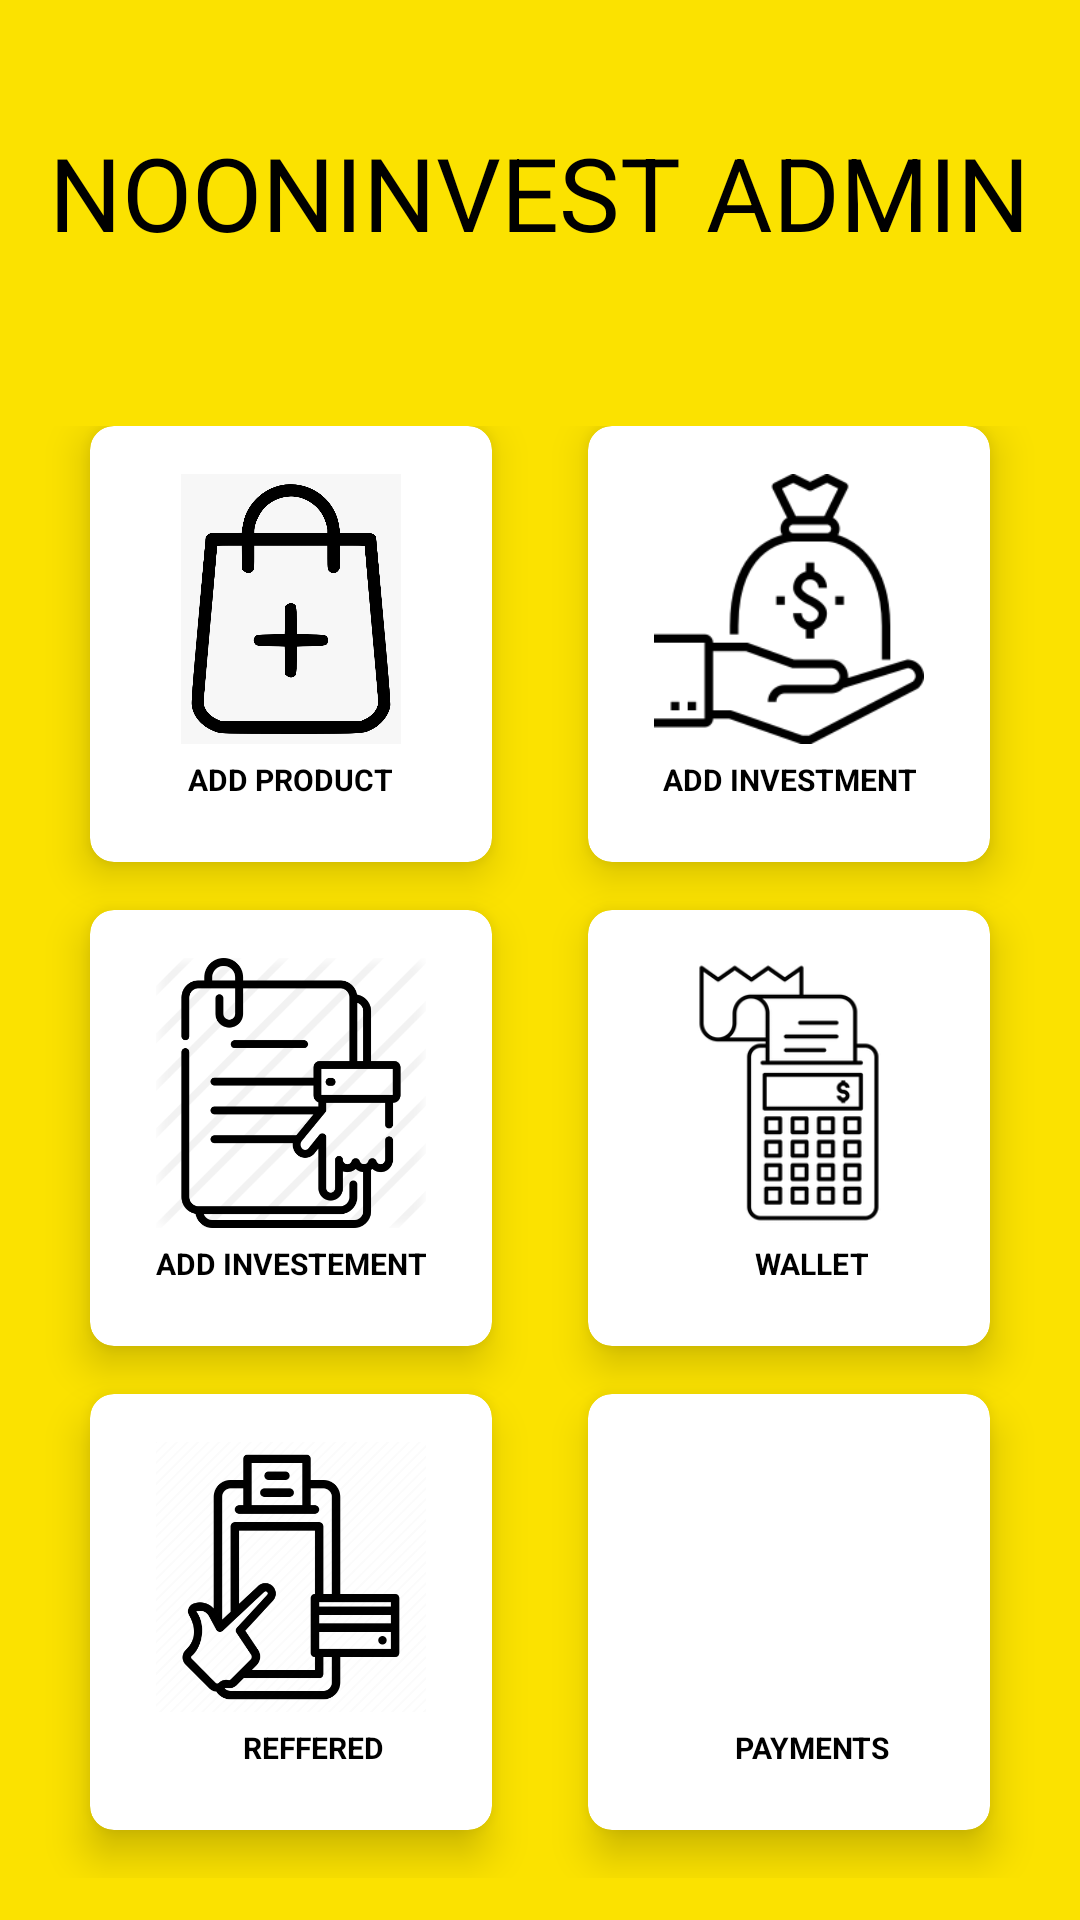

Screen size 1080px×1920px. Icon name, then its center in pixels as (x,y):
refferalpayment: (291,1577)
